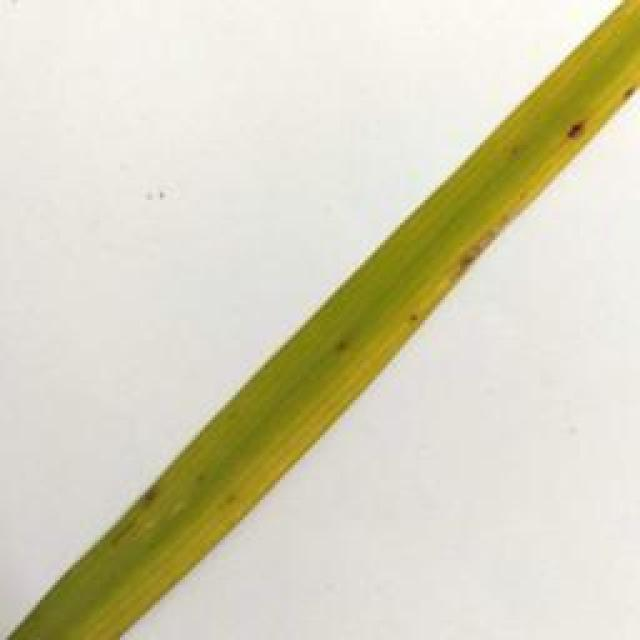Brown_Spot: (433, 207, 524, 277), (94, 468, 188, 521), (556, 117, 598, 145), (600, 85, 640, 110), (326, 328, 355, 355), (400, 310, 425, 327)
